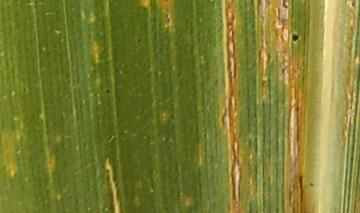tarspot: (290, 31, 303, 45), (308, 181, 315, 188), (202, 132, 207, 139), (105, 88, 110, 94), (136, 37, 139, 42)
